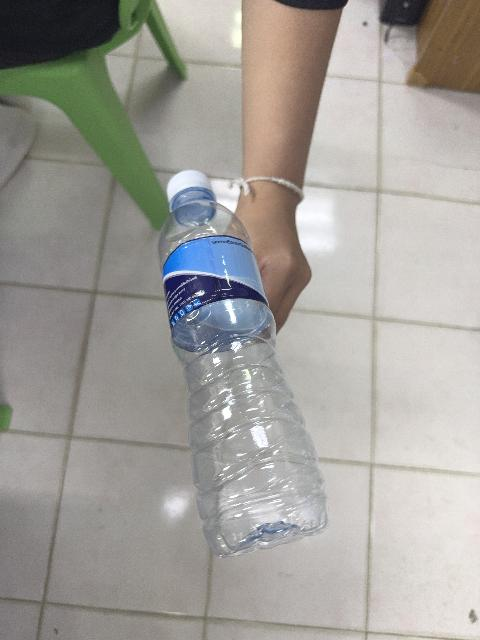bottle: (158, 171, 326, 557)
